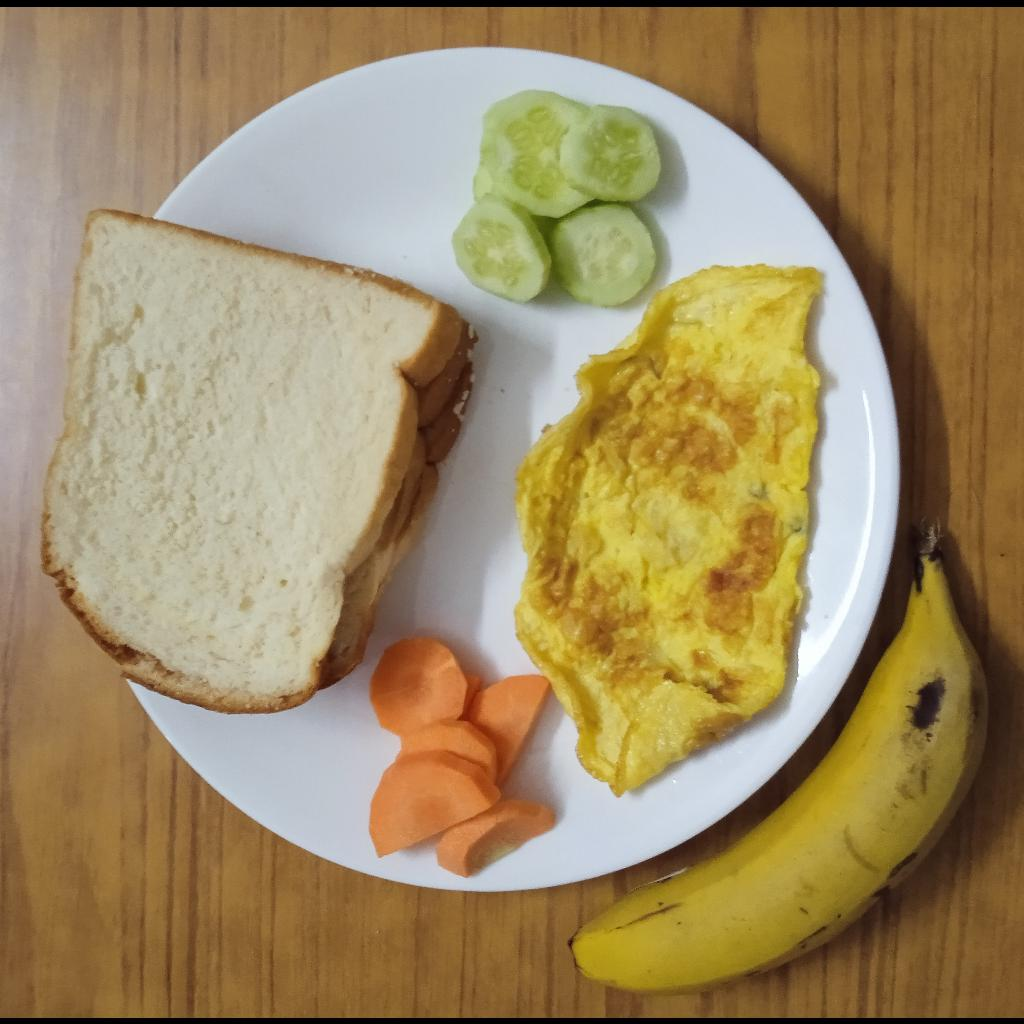banana: (567, 516, 987, 995)
bread: (39, 206, 479, 717)
carrot: (368, 636, 556, 879)
cucumber: (450, 88, 663, 307)
egg-poached: (512, 264, 825, 801)
